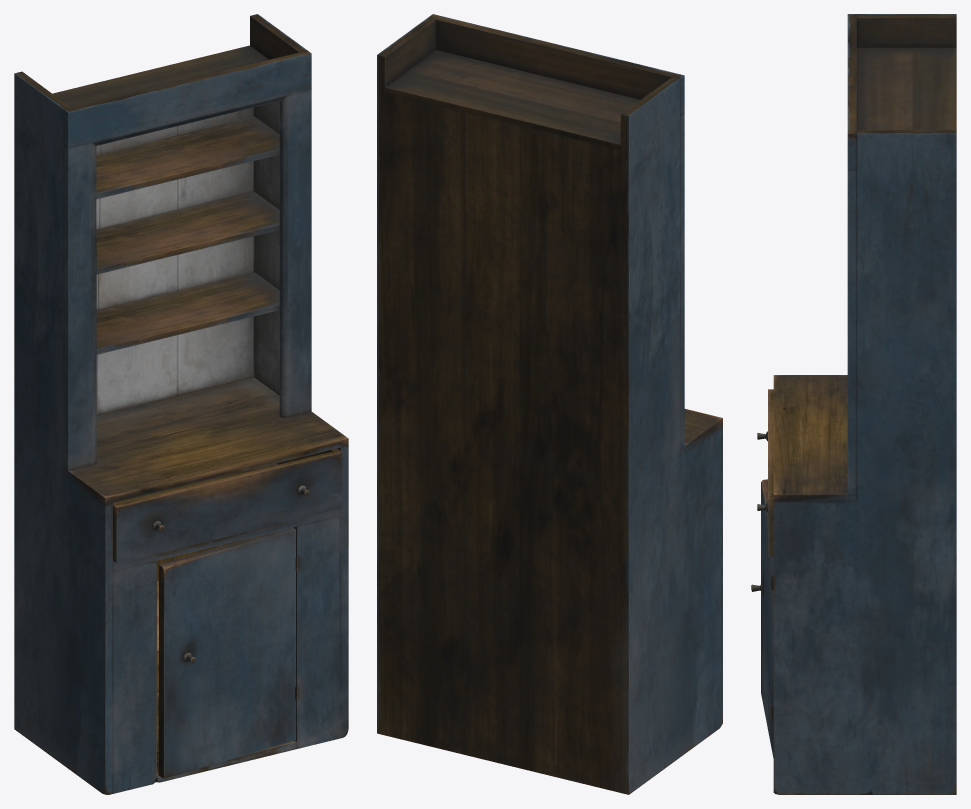
The model's file is painted_wooden_cabinet_02.glb.
The picture shows the model from 3 angles, left to right: view 1: azimuth 30°, elevation 25°; view 2: azimuth 150°, elevation 25°; view 3: azimuth 270°, elevation 25°; orthographic projection. The views are drawn at different scales.
Parts seen in each view (by area): view 1: painted_wooden_cabinet_02; view 2: painted_wooden_cabinet_02; view 3: painted_wooden_cabinet_02.
Boxes of the visible parts, <box> form: painted_wooden_cabinet_02: <box>14,14,348,794</box>; painted_wooden_cabinet_02: <box>377,14,722,794</box>; painted_wooden_cabinet_02: <box>751,14,956,794</box>.
Bounding box in the file's own units: 0.9969 × 2.57 × 0.7222.
Materials: 1 (1 with a texture image).
